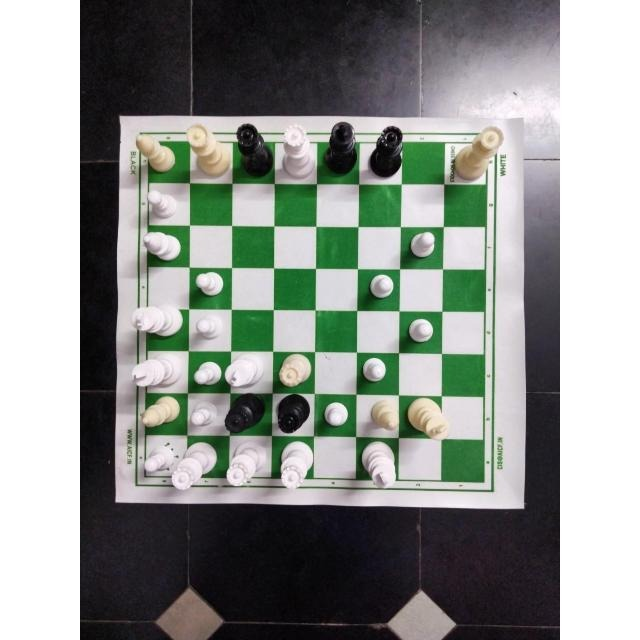black-king: (321, 121, 357, 176)
black-queen: (234, 121, 270, 176), (368, 124, 404, 176), (224, 395, 266, 432), (274, 393, 308, 433)
white-bishop: (133, 132, 175, 173), (140, 395, 180, 429), (140, 230, 181, 262), (370, 398, 398, 432)
white-king: (128, 303, 183, 338), (406, 397, 449, 441), (129, 351, 182, 386), (361, 440, 397, 488), (223, 351, 264, 389)
white-pawn: (194, 269, 225, 299), (145, 189, 176, 219), (191, 360, 223, 388), (361, 356, 391, 384), (142, 445, 174, 471), (193, 315, 225, 340), (410, 230, 438, 258), (191, 399, 217, 429), (367, 274, 394, 302), (322, 399, 349, 426), (407, 316, 433, 344)
white-queen: (451, 125, 505, 180), (184, 120, 231, 180), (172, 441, 218, 491), (279, 123, 317, 181), (224, 441, 267, 487), (278, 439, 314, 489), (279, 352, 313, 388)
